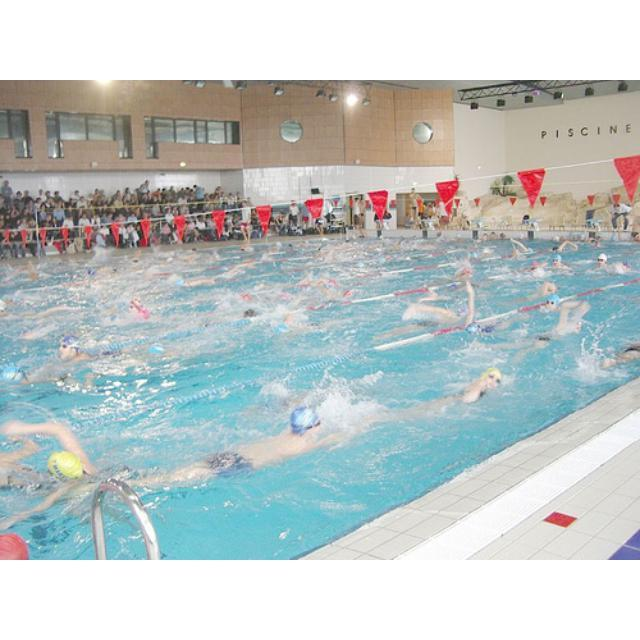human: (175, 401, 323, 481), (444, 366, 508, 410), (542, 298, 589, 349), (58, 337, 87, 366), (597, 253, 625, 274), (547, 254, 570, 275)
